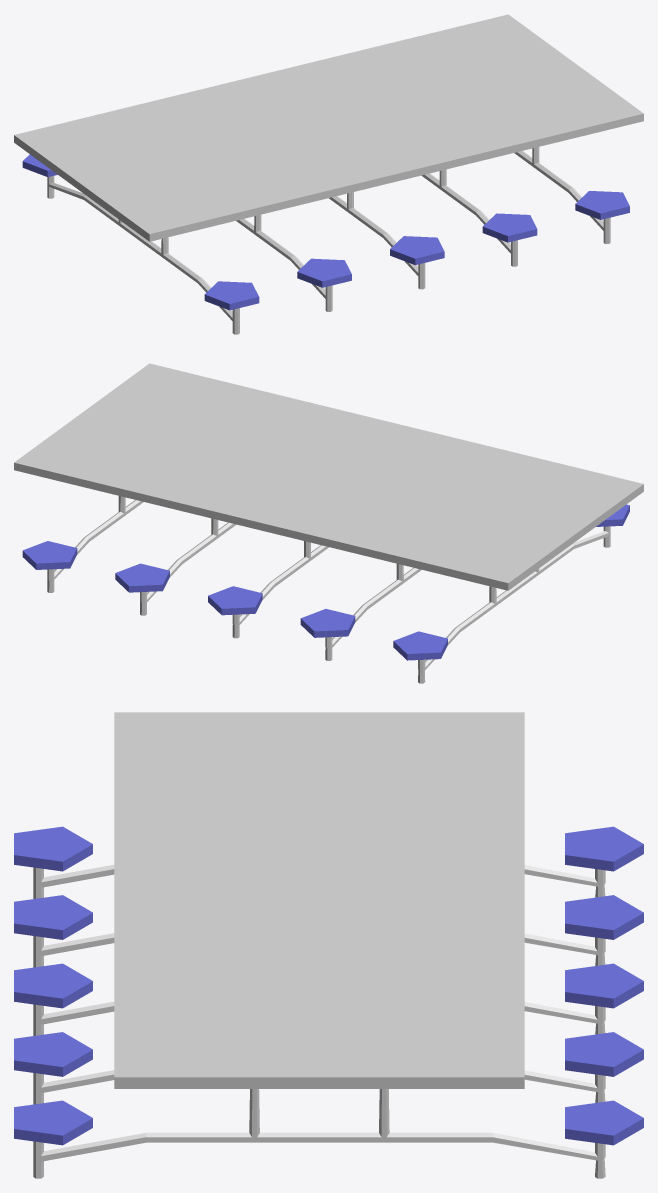
Rendered from cafateria bench.fbx.
3 views of the same model, one above another, from view 1: azimuth 30°, elevation 25°; view 2: azimuth 150°, elevation 25°; view 3: azimuth 270°, elevation 25° (orthographic). The views are drawn at different scales.
Visible parts, largest first — view 1: Cube, Plane.004, Circle.006, Circle.002, Circle.005, Circle.009, Circle.001, Plane.003, Plane, Plane.001, Plane.002; view 2: Cube, Plane.004, Circle, Circle.008, Circle.003, Circle.007, Circle.004, Plane.003, Plane, Plane.002, Plane.001; view 3: Cube, Plane, Circle.009, Circle.001, Circle.006, Circle.005, Circle.008, Circle.002, Circle.003, Circle.007, Circle, Circle.004 (+4 smaller).
Boxes of the visible parts, <box> form: Cube: <box>14,14,643,241</box>; Plane.004: <box>47,176,239,334</box>; Circle.006: <box>204,281,259,310</box>; Circle.002: <box>482,213,537,242</box>; Circle.005: <box>390,236,444,265</box>; Circle.009: <box>297,258,351,287</box>; Circle.001: <box>575,191,629,219</box>; Plane.003: <box>236,214,332,311</box>; Plane: <box>514,147,610,243</box>; Plane.001: <box>421,169,517,266</box>; Plane.002: <box>329,192,425,289</box>; Cube: <box>14,363,643,590</box>; Plane.004: <box>418,526,610,683</box>; Circle: <box>22,541,77,569</box>; Circle.008: <box>300,609,355,637</box>; Circle.003: <box>115,563,169,592</box>; Circle.007: <box>393,631,447,660</box>; Circle.004: <box>208,586,262,615</box>; Plane.003: <box>325,563,421,660</box>; Plane: <box>47,496,143,592</box>; Plane.002: <box>232,541,328,638</box>; Plane.001: <box>140,518,236,615</box>; Cube: <box>114,712,524,1088</box>; Plane: <box>33,1089,605,1178</box>; Circle.009: <box>14,895,92,939</box>; Circle.001: <box>14,1100,92,1145</box>; Circle.006: <box>14,826,92,871</box>; Circle.005: <box>14,963,92,1008</box>; Circle.008: <box>565,895,643,939</box>; Circle.002: <box>14,1032,92,1076</box>; Circle.003: <box>565,1032,643,1076</box>; Circle.007: <box>565,826,643,871</box>; Circle: <box>565,1100,643,1145</box>; Circle.004: <box>565,963,643,1008</box>.
Bounding box in the file's own units: 800 × 148 × 583.
